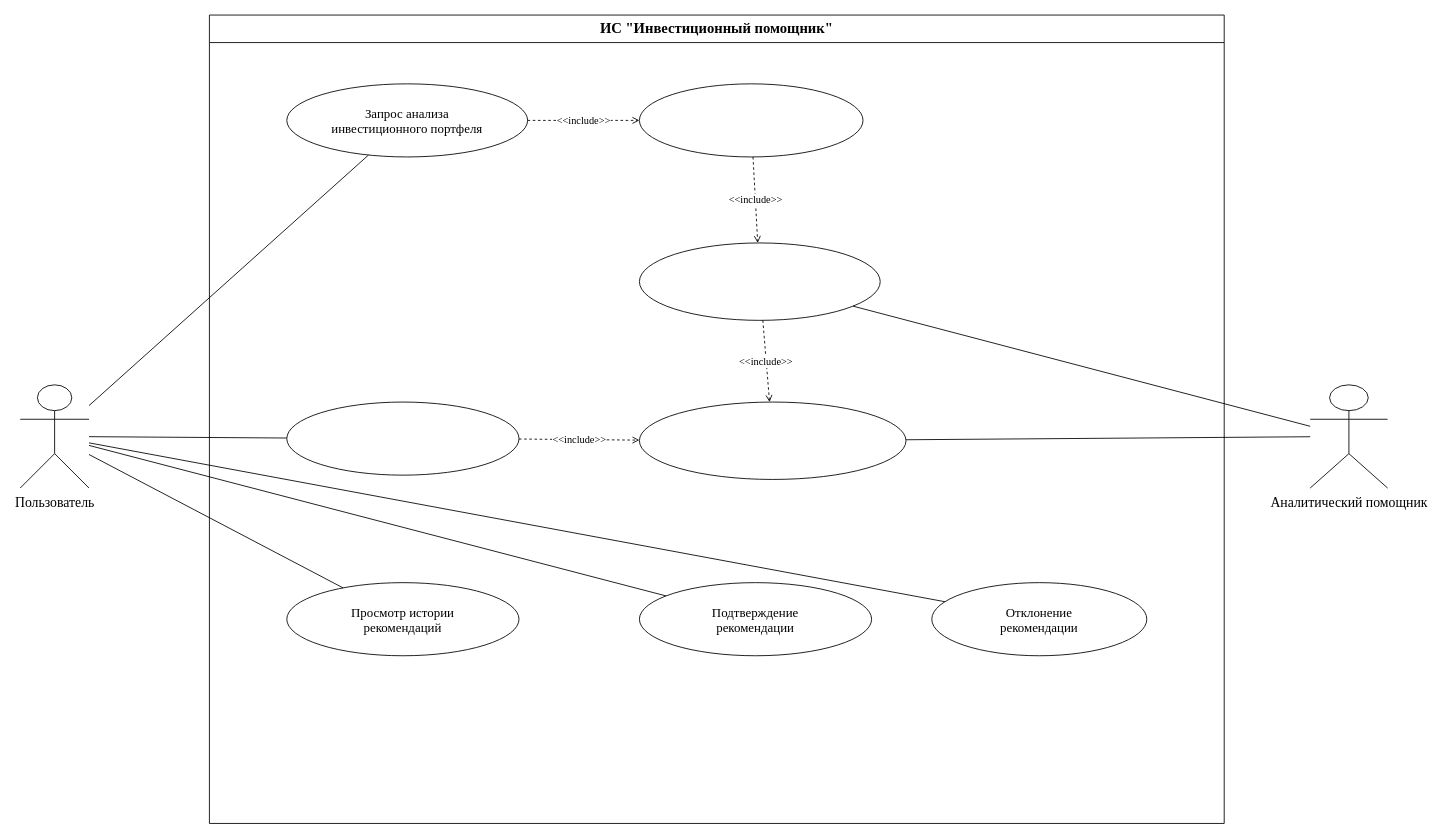
This 1442x839 diagram has some shape labels left out. Here are the shapes that lost their labels. From the top down, the centre of each, then its label:
the point at 751,120: Подготовка данных для анализа
the point at 759,281: Анализ инвестиционного портфеля
the point at 402,438: Просмотр результата анализа
the point at 772,440: Формирование инвестиционной рекомендации
